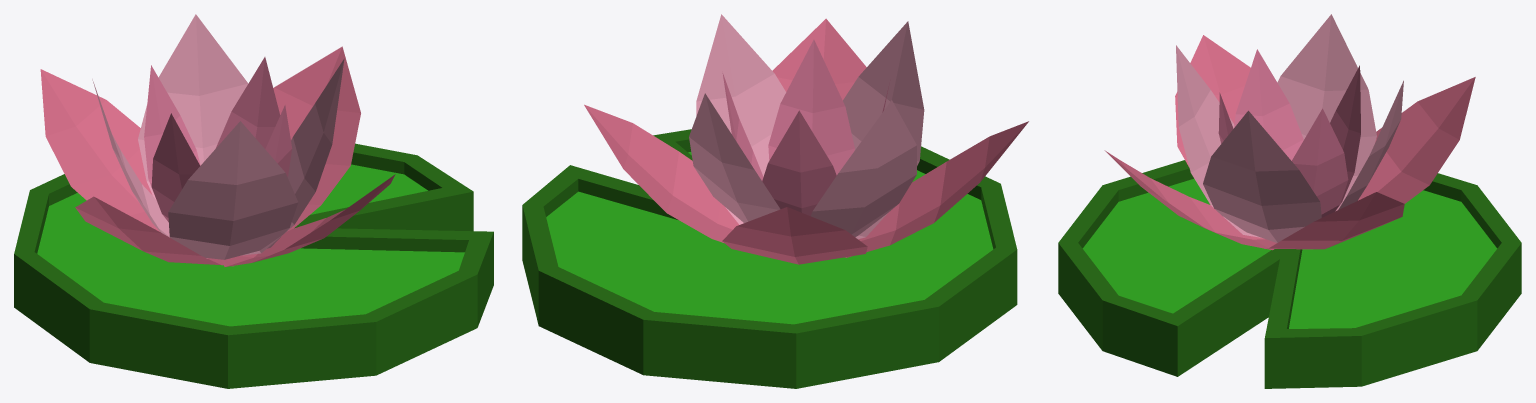
File: WaterLily_Green_Flower_2.fbx
3 renders of one model, left to right at view 1: azimuth 30°, elevation 25°; view 2: azimuth 150°, elevation 25°; view 3: azimuth 270°, elevation 25°, orthographic. The views are drawn at different scales.
Parts seen in each view (by area): view 1: Cylinder.264, Cylinder.305, Plane.102, Plane.108, Plane.097; view 2: Cylinder.264, Cylinder.305, Plane.102, Plane.108, Plane.097; view 3: Cylinder.264, Cylinder.305, Plane.102, Plane.108, Plane.097.
Boxes of the visible parts, bbox=[...] form: Cylinder.264: bbox=[14, 143, 493, 388]; Cylinder.305: bbox=[37, 164, 464, 326]; Plane.102: bbox=[92, 14, 344, 259]; Plane.108: bbox=[40, 46, 395, 266]; Plane.097: bbox=[144, 57, 292, 222]; Cylinder.264: bbox=[522, 129, 1017, 388]; Cylinder.305: bbox=[546, 152, 993, 324]; Plane.102: bbox=[689, 14, 924, 239]; Plane.108: bbox=[584, 18, 1028, 264]; Plane.097: bbox=[722, 39, 890, 215]; Cylinder.264: bbox=[1058, 160, 1521, 388]; Cylinder.305: bbox=[1082, 179, 1497, 328]; Plane.102: bbox=[1176, 14, 1403, 242]; Plane.108: bbox=[1104, 35, 1475, 250]; Plane.097: bbox=[1218, 49, 1360, 217].
Size of the model in its own units: 116 by 60.98 by 119.
